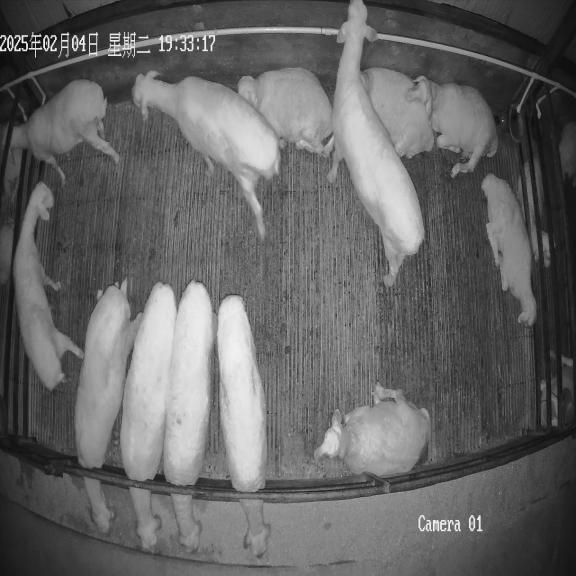eating: (74, 280, 142, 533), (120, 282, 176, 551), (217, 295, 270, 558), (163, 280, 213, 551)
lying: (314, 382, 431, 477), (408, 75, 498, 178), (481, 174, 536, 327), (238, 68, 332, 155), (361, 68, 435, 158)
stand: (327, 0, 424, 286), (132, 71, 280, 240), (13, 182, 84, 390), (10, 79, 119, 183)
